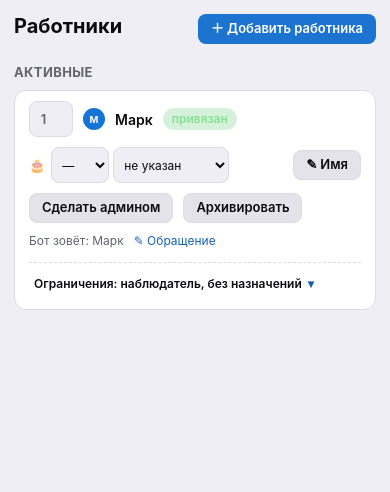
it: ограничения работника свёрнуты › у наблюдателя две нижние галки недоступны и показывают значение из базы
The image size is (390, 492).
Click the button with class "employee-restrictions-toggle". click: (174,284)
box: [29,269,319,299]
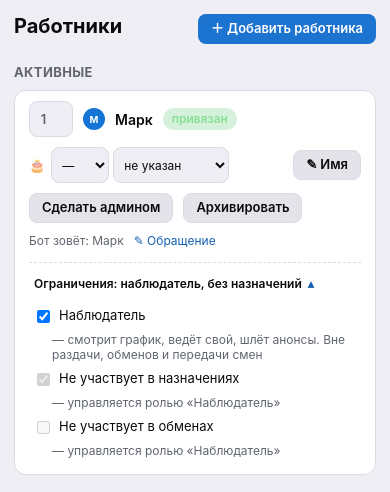
Now the 1st checkbox is checked, box [37,310,50,323]
Now the 1st checkbox is enabled, box [37,310,50,323]
Now the checkbox labelled "Не участвует в назначениях — управляется ролью «Наблюдатель»" is disabled, box [37,373,50,386]
